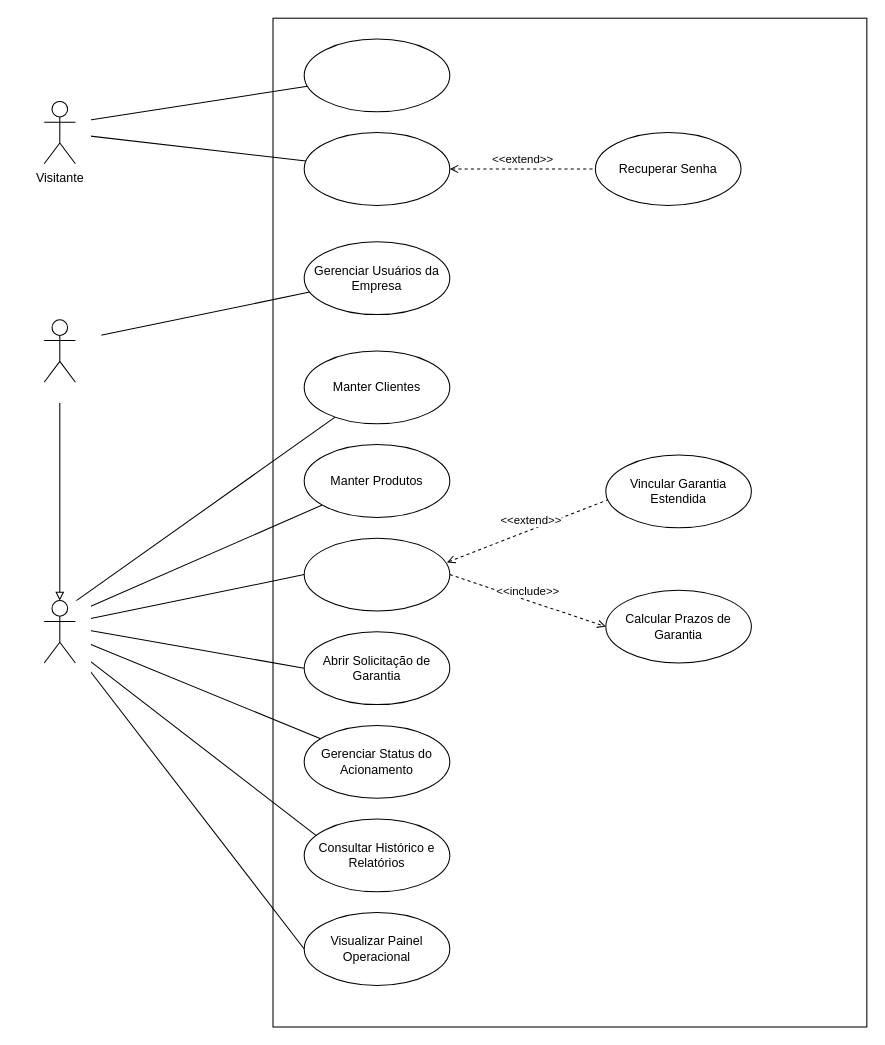
The diagram is 885 pixels wide and 1045 high, and some of its shapes have lost their labels. The box of each missing label's shape, as (x1, y1, x2, y2) in pixels:
Administrador: (43, 319, 75, 382)
Autenticar Usuário: (303, 132, 450, 205)
Cadastrar Empresa: (303, 38, 450, 112)
Operador: (43, 600, 75, 663)
Registrar Venda: (303, 537, 450, 611)
